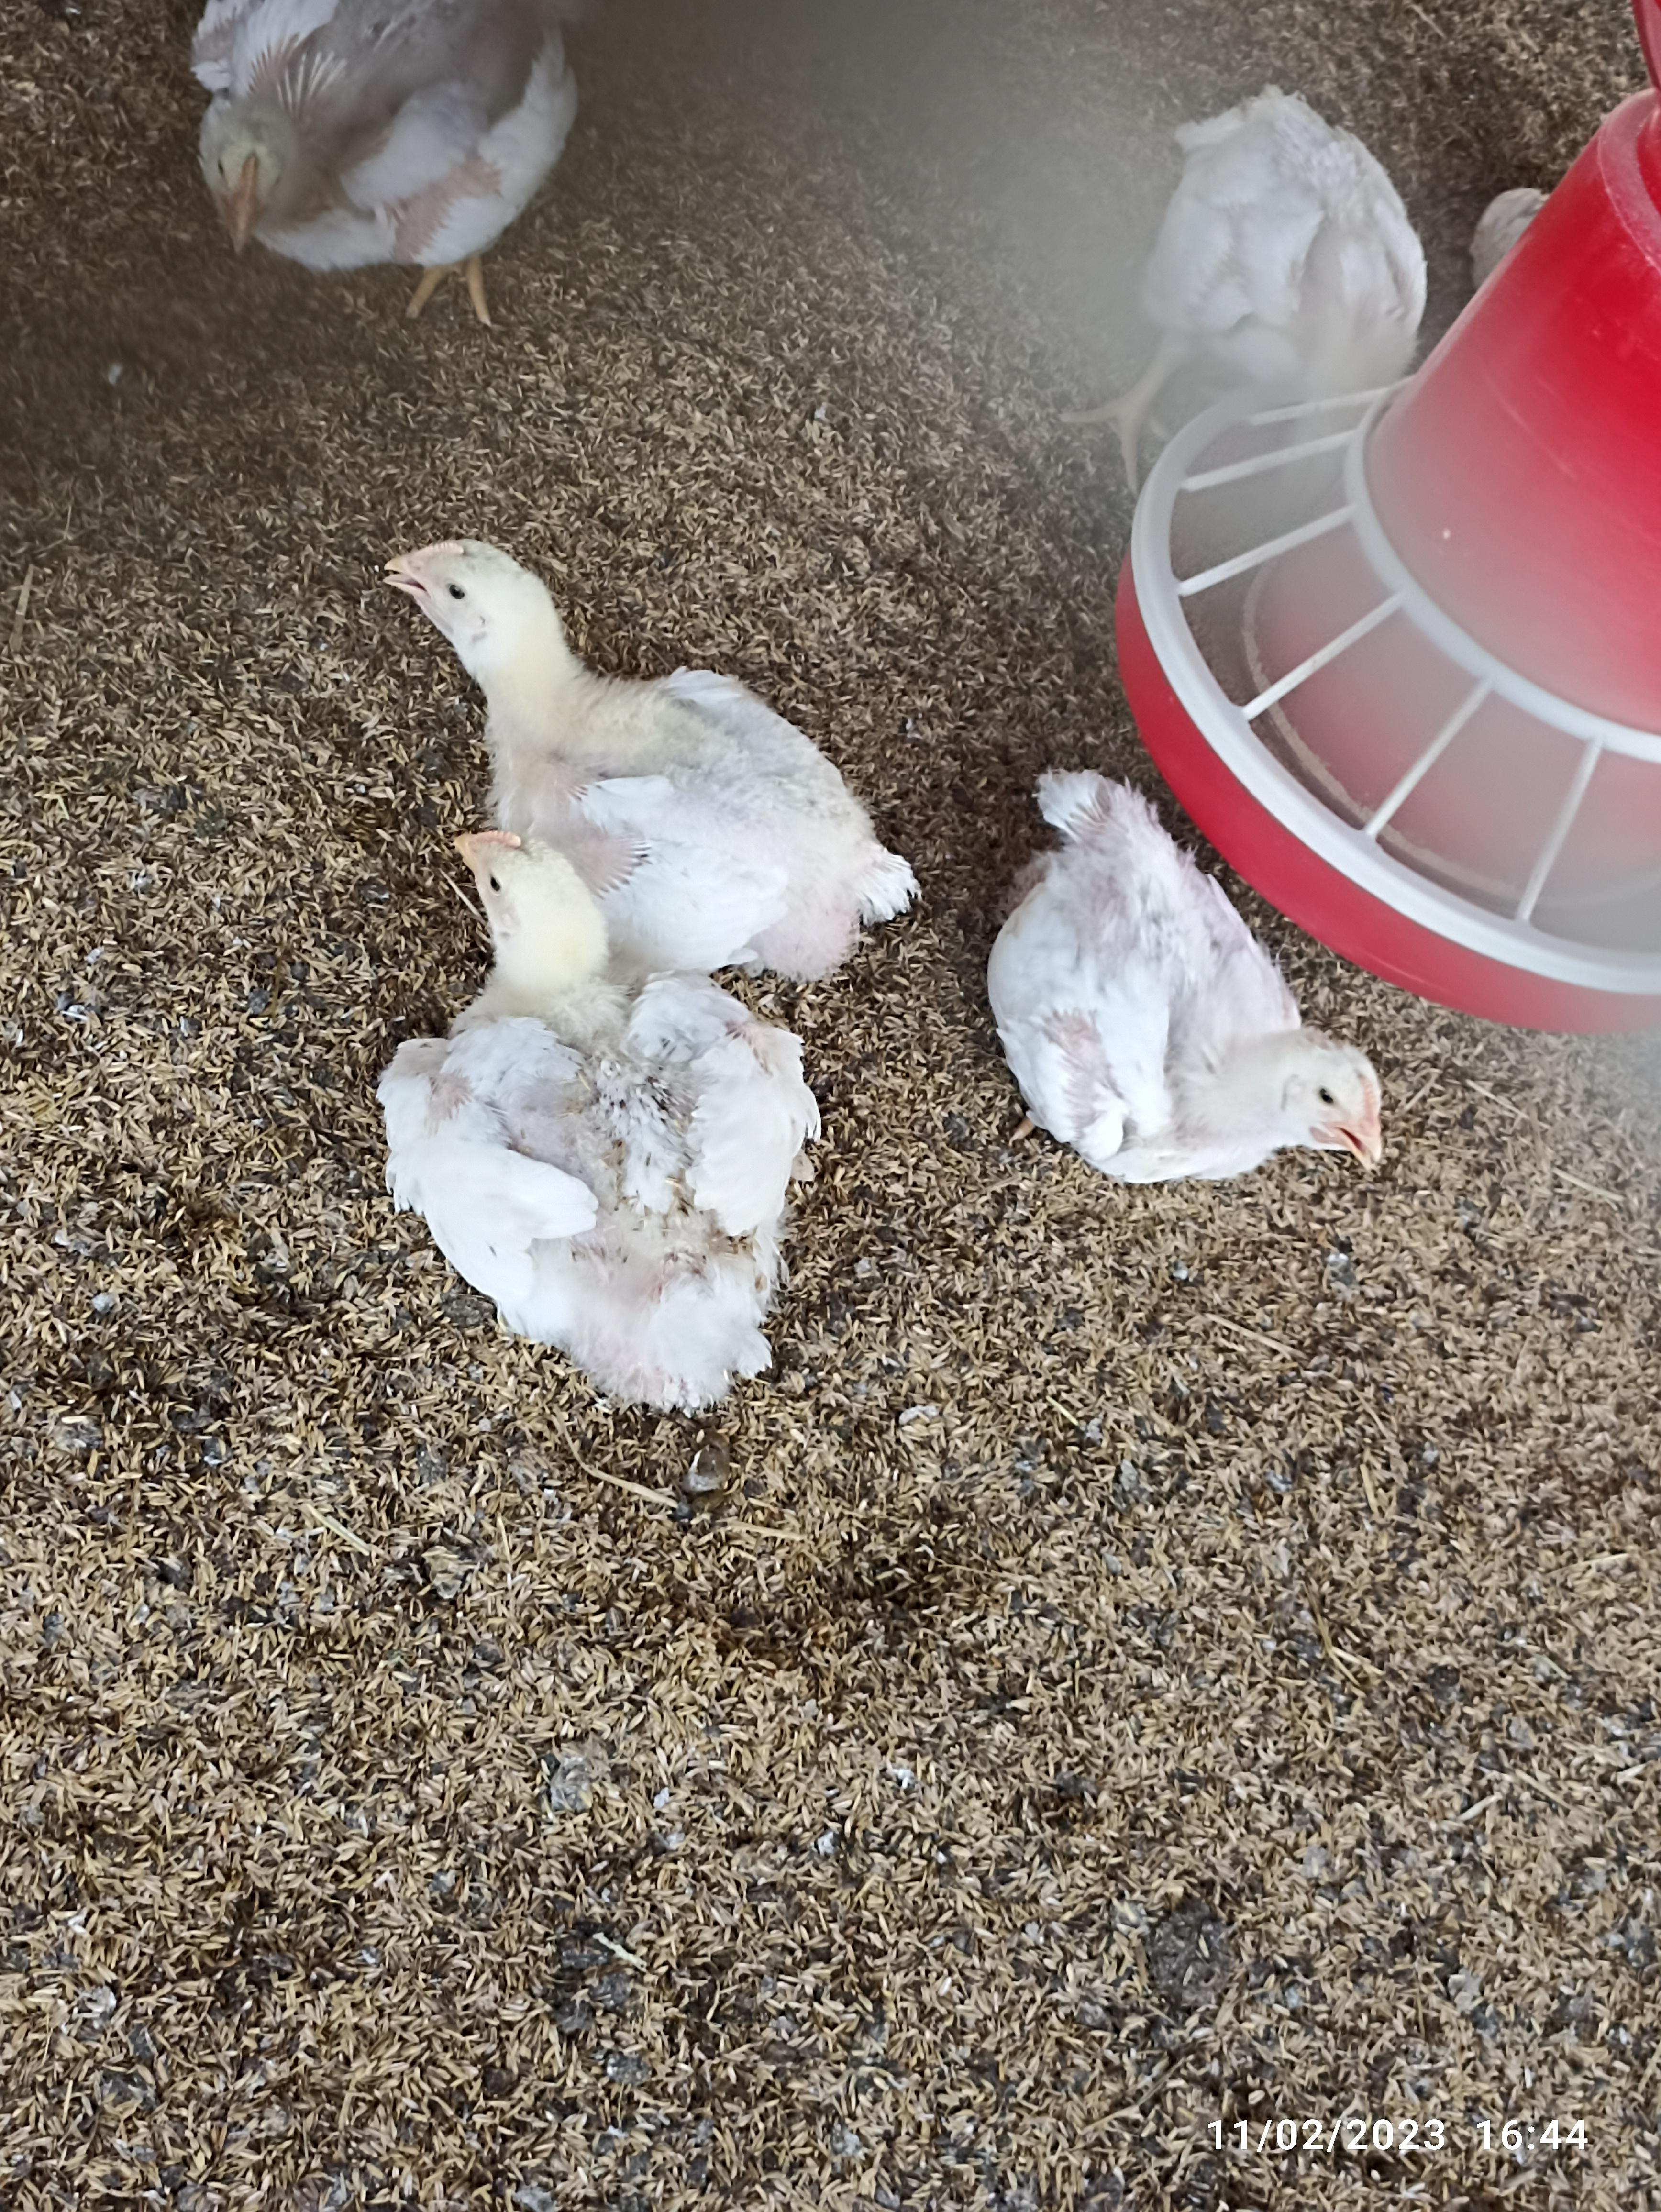Pollos: (389, 816, 829, 1396), (977, 745, 1398, 1186), (377, 532, 829, 816), (187, 3, 558, 267)
